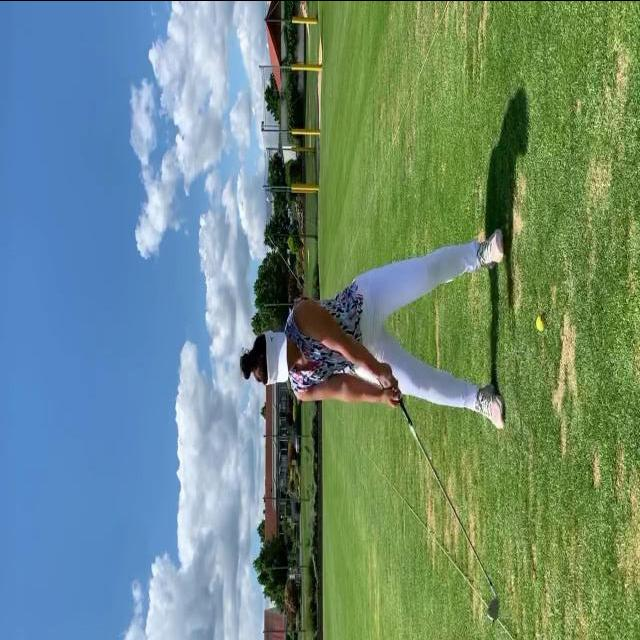golf ball: (536, 313, 545, 330)
golf club-handle: (387, 377, 505, 627)
golf club-head: (487, 594, 500, 624)
